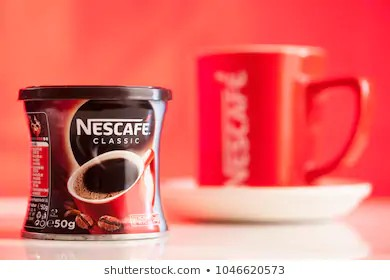nescafe-classic/gold-med: (15, 86, 174, 241)
